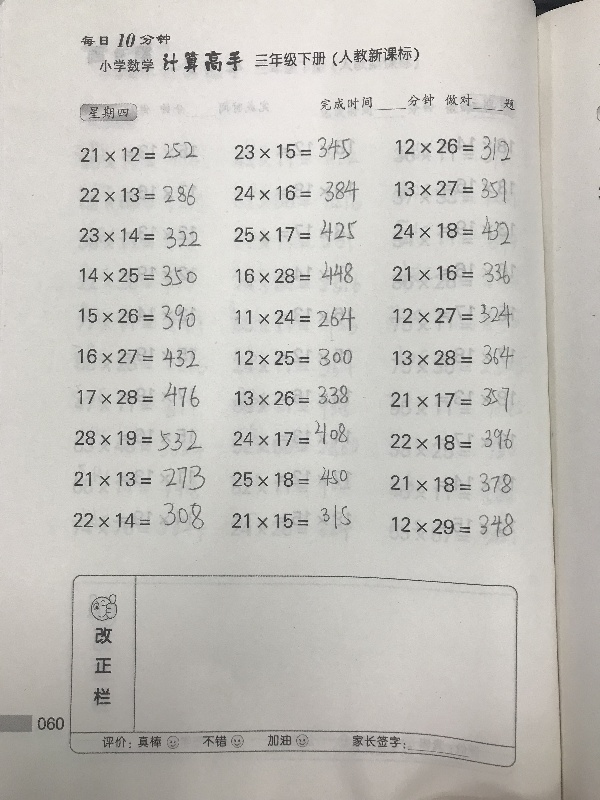equation: (389, 209, 529, 247), (389, 298, 518, 333), (386, 384, 517, 417), (72, 377, 203, 410), (70, 425, 205, 456), (387, 510, 517, 542), (389, 341, 519, 373), (390, 257, 520, 289), (228, 464, 356, 496), (76, 301, 200, 334), (386, 469, 517, 500), (70, 462, 205, 492), (73, 501, 208, 531), (223, 501, 358, 531), (232, 257, 357, 289), (234, 300, 359, 332), (391, 130, 514, 162), (231, 216, 361, 246), (391, 172, 516, 203), (232, 133, 356, 164), (231, 177, 363, 206), (229, 418, 352, 449), (76, 224, 205, 253), (387, 425, 518, 453), (77, 262, 202, 291), (77, 181, 200, 210), (75, 345, 203, 372), (230, 382, 351, 409), (76, 140, 201, 165)
